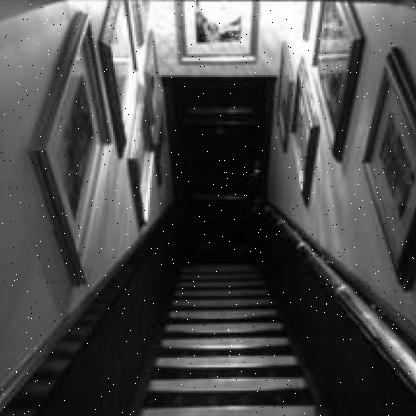stair_down: (144, 268, 322, 414)
